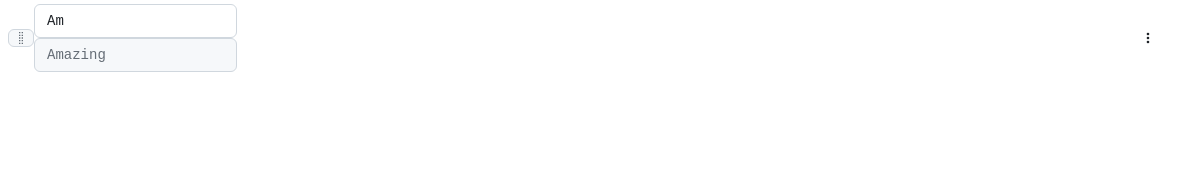
ChordSheetRow kebab menu › Move up disabled for top row (sourceLineIndex === 0)
Click the button named "Row actions". click: (1148, 38)
box: [1136, 26, 1160, 50]
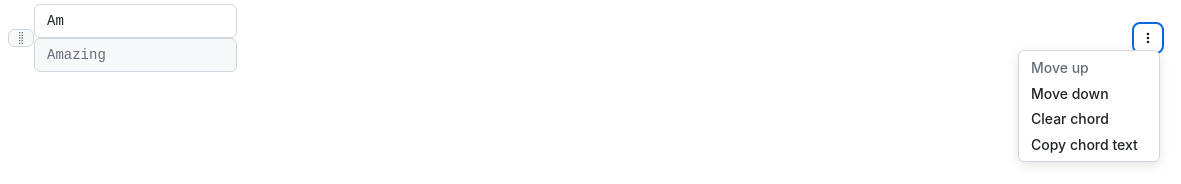
Expected: the menu item "Move up" is disabled, [1019, 55, 1159, 80]
